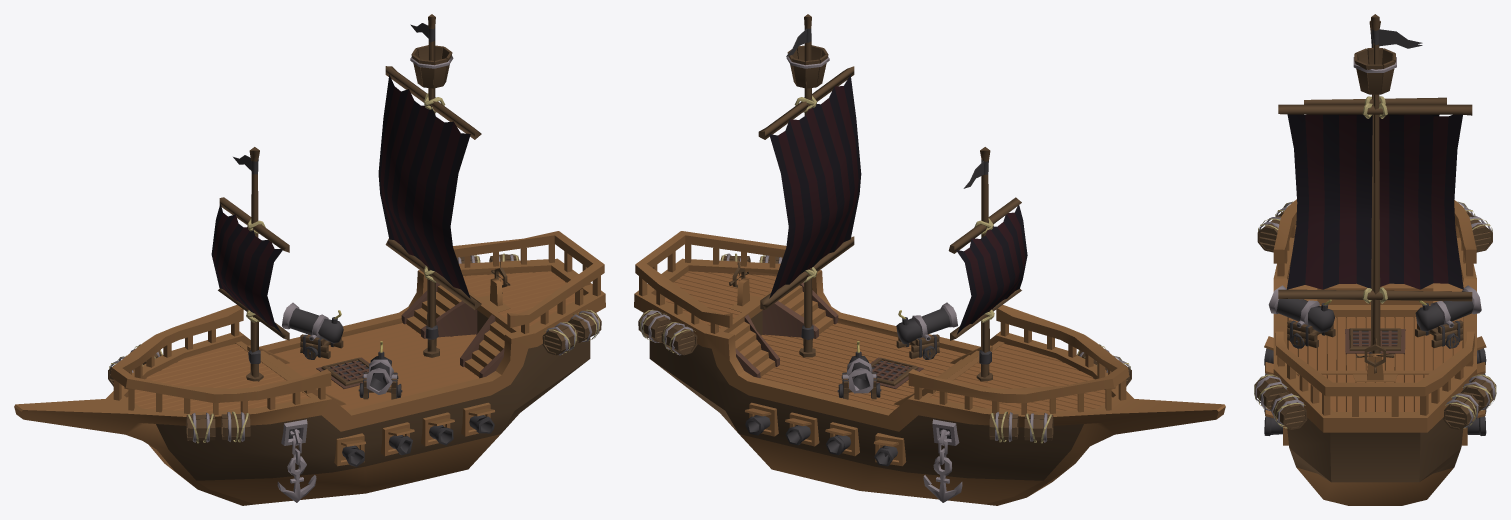
Rendered from blacktide-ship-lo.glb.
3 renders of one model, left to right at view 1: azimuth 30°, elevation 25°; view 2: azimuth 150°, elevation 25°; view 3: azimuth 270°, elevation 25°, orthographic. The views are drawn at different scales.
Parts seen in each view (by area): view 1: Ship_Large; view 2: Ship_Large; view 3: Ship_Large.
Part boxes in pixels (<box>): Ship_Large: <box>14,14,605,505</box>; Ship_Large: <box>634,14,1225,505</box>; Ship_Large: <box>1254,14,1496,505</box>.
Size of the model in its own units: 15.43 by 11.48 by 5.29.
1 material, 1 textured.
